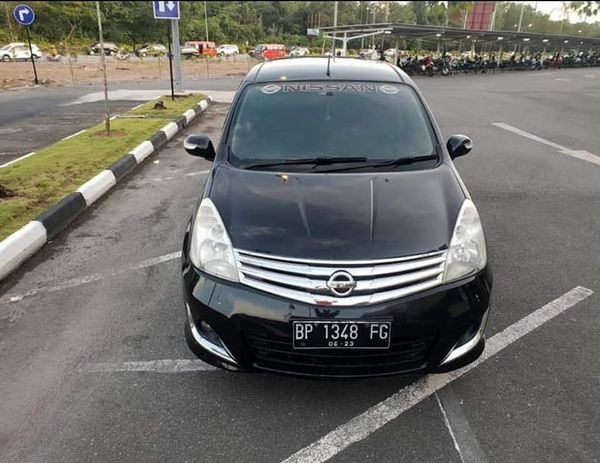plate: (291, 316, 397, 356)
